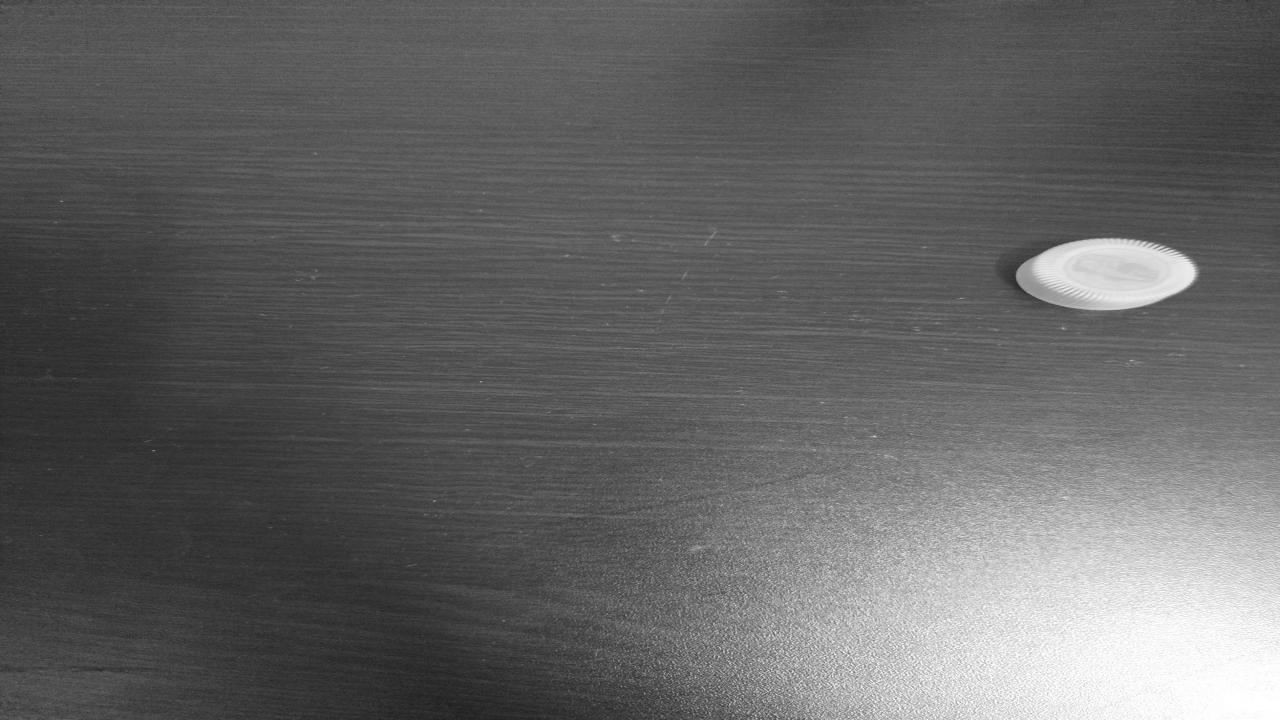bottle_cap: (1020, 241, 1194, 311)
